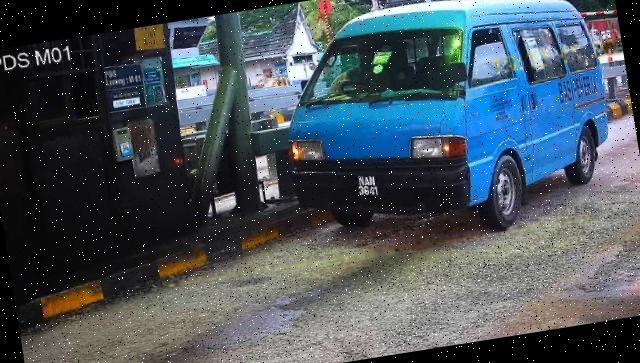License_Plate: (349, 170, 386, 206)
van: (268, 1, 624, 261)
